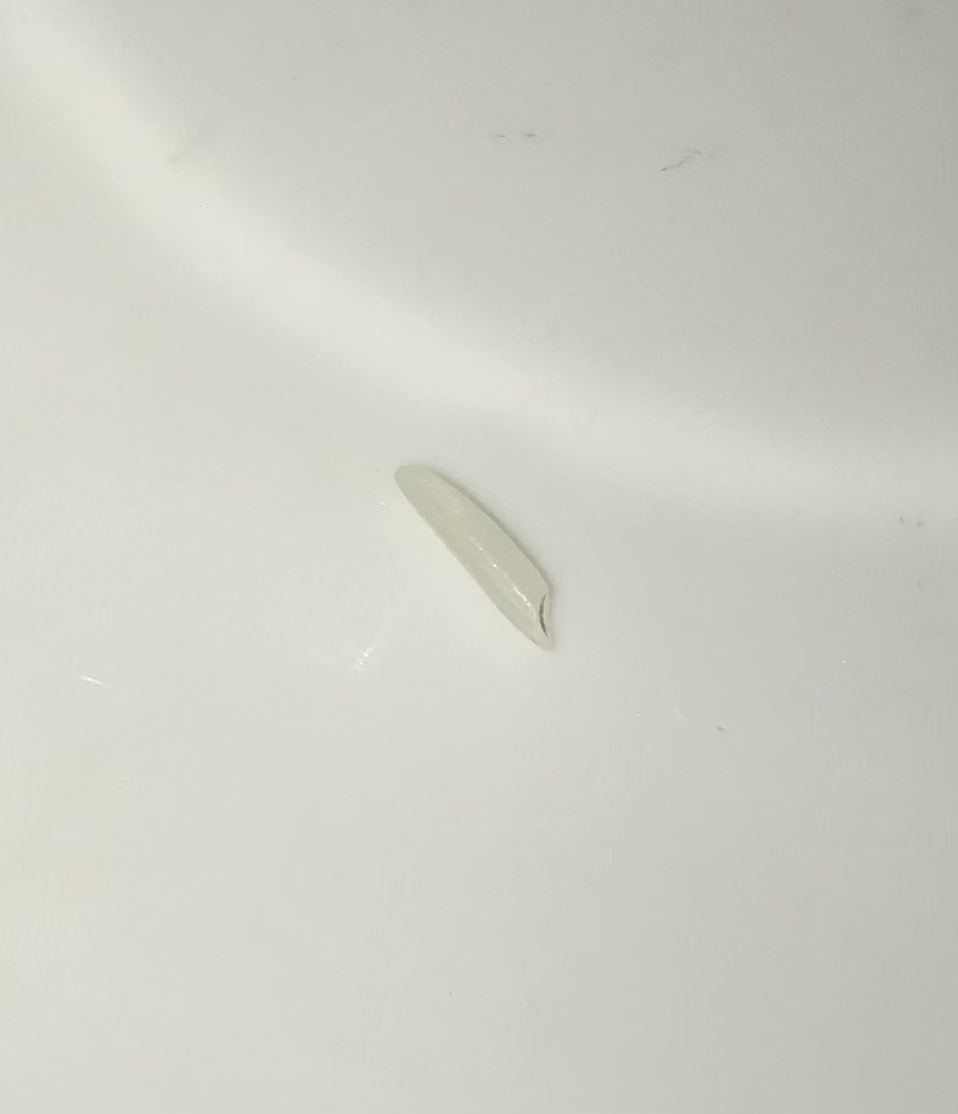Gao Ngoc Troi: (384, 436, 579, 663)
